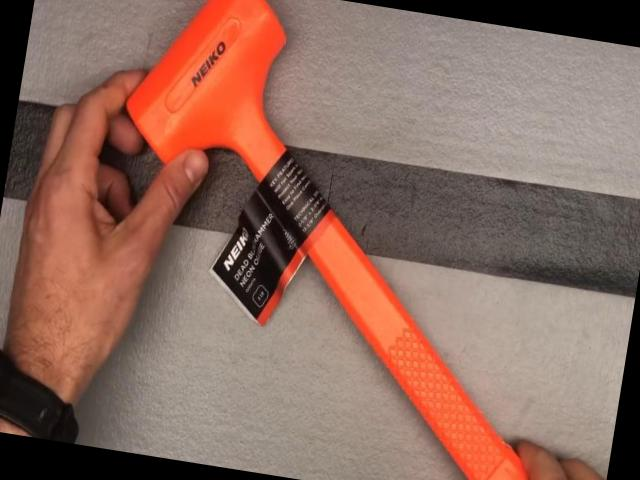hammer: (73, 0, 600, 480)
